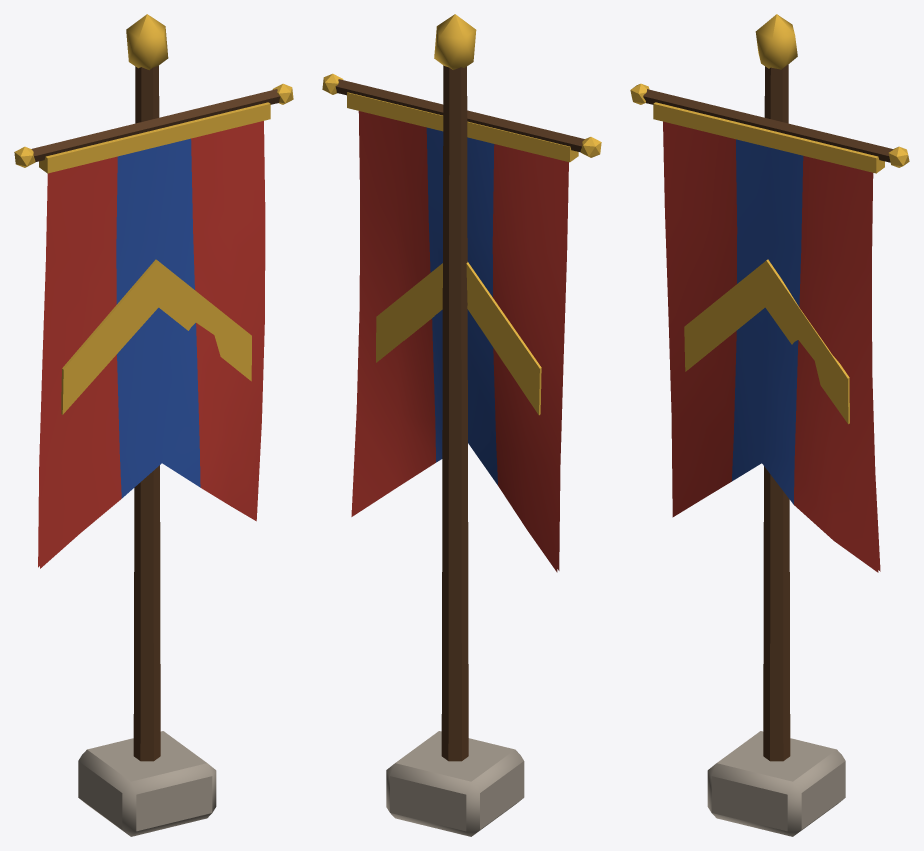
Rendered from banner_pole.glb.
The picture shows the model from 3 angles, left to right: view 1: azimuth 30°, elevation 25°; view 2: azimuth 150°, elevation 25°; view 3: azimuth 330°, elevation 25°; orthographic projection.
Parts seen in each view (by area): view 1: banner_pole; view 2: banner_pole; view 3: banner_pole.
Boxes of the visible parts, x1=… form: banner_pole: x1=14, y1=14, x2=293, y2=836; banner_pole: x1=322, y1=14, x2=601, y2=836; banner_pole: x1=630, y1=14, x2=909, y2=836.
Size of the model in its own units: 0.9426 by 2.6 by 0.32.
